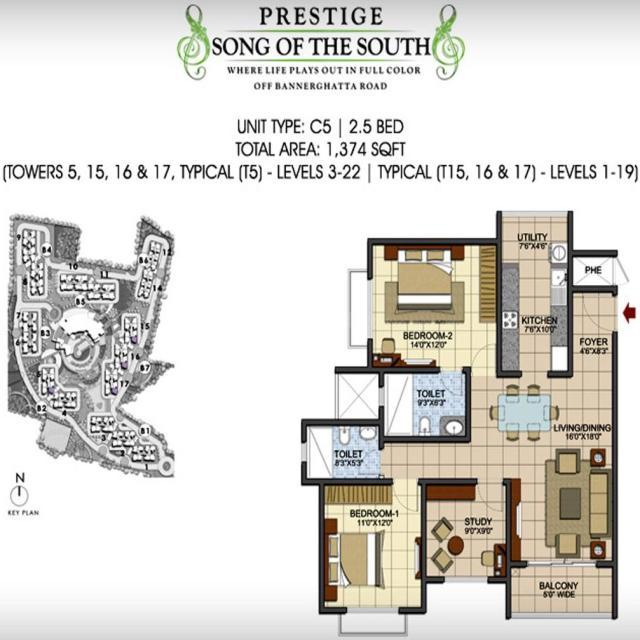Balcony-Sitout: (511, 566, 613, 614)
Bedroom: (323, 485, 421, 607), (426, 482, 506, 578)
Bedroom with Toilet: (370, 240, 499, 440)
Dining: (488, 384, 563, 445)
Enterance-Foyer: (574, 294, 615, 376)
Kitchen: (502, 268, 567, 371)
Living: (511, 446, 612, 563)
Toilet: (385, 376, 464, 436), (308, 427, 379, 478)
Utility: (502, 217, 568, 263)
